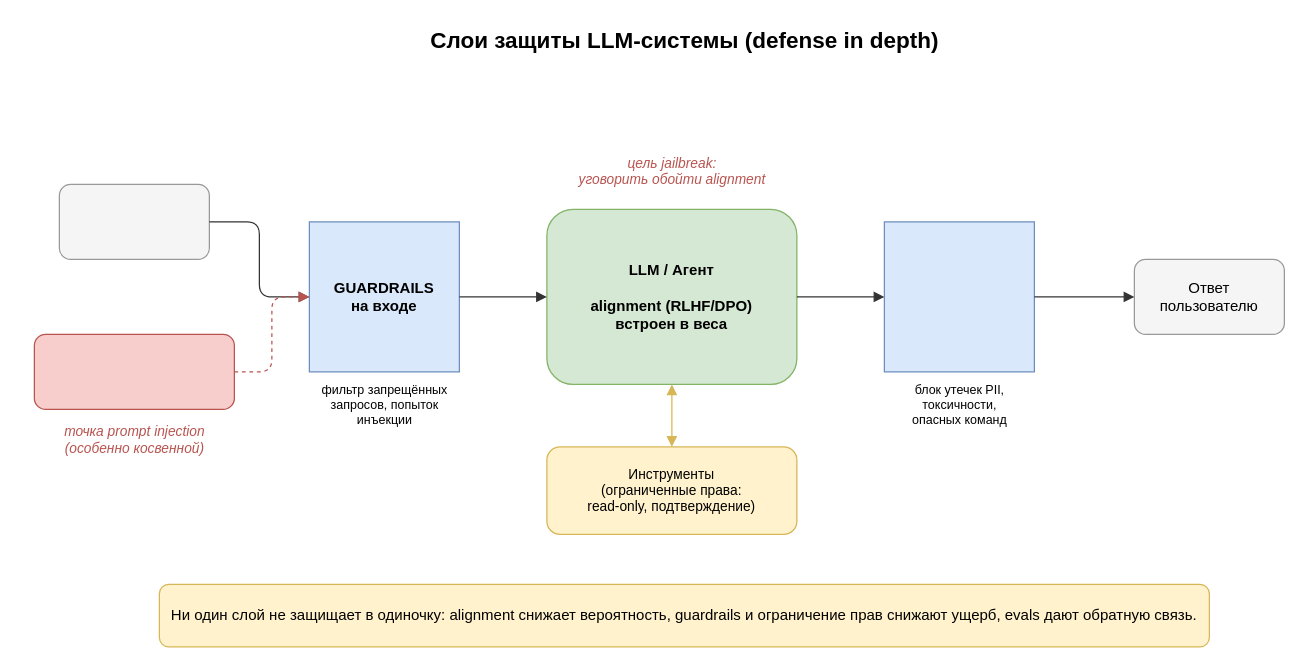
Image size: 1306x669. Some labels were removed from this diagram. Here are the shapes that lost their labels. From the top down, the box of each, then its label:
(58, 183, 209, 259): Ввод пользователя
(883, 221, 1034, 372): GUARDRAILS на выходе
(33, 333, 234, 409): Внешние данные (веб, RAG, документы)
